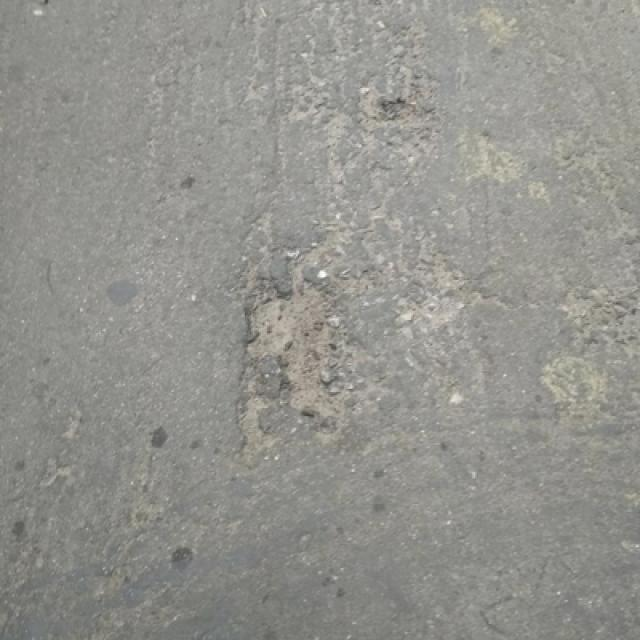objects: (249, 274, 355, 419)
